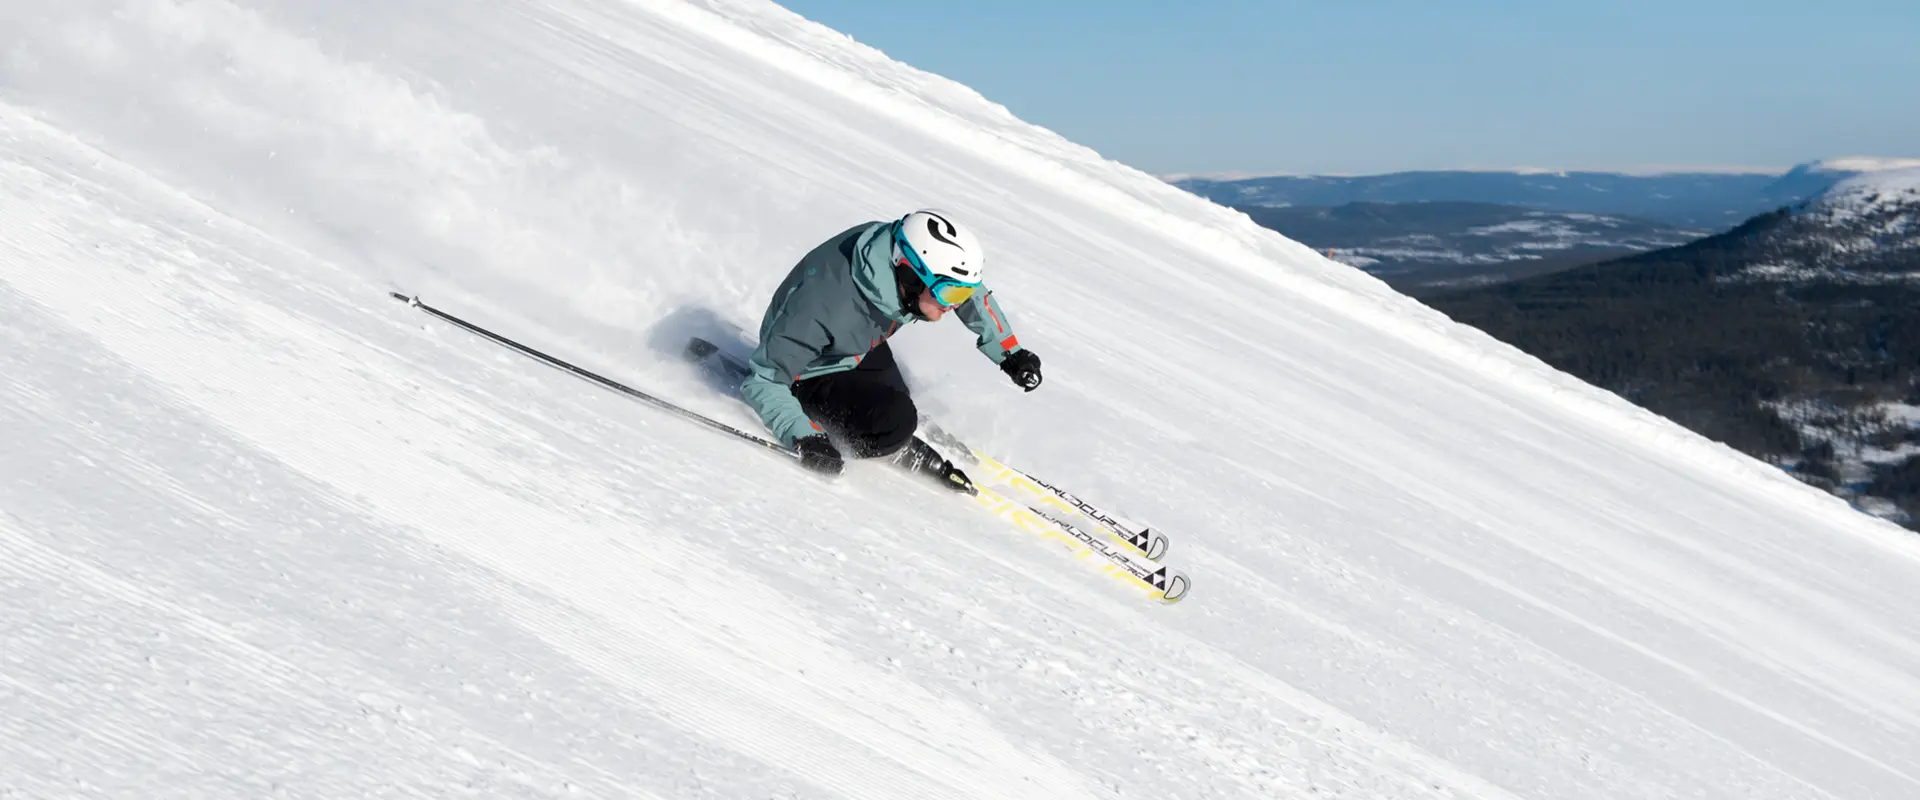skier: (650, 141, 1210, 633)
